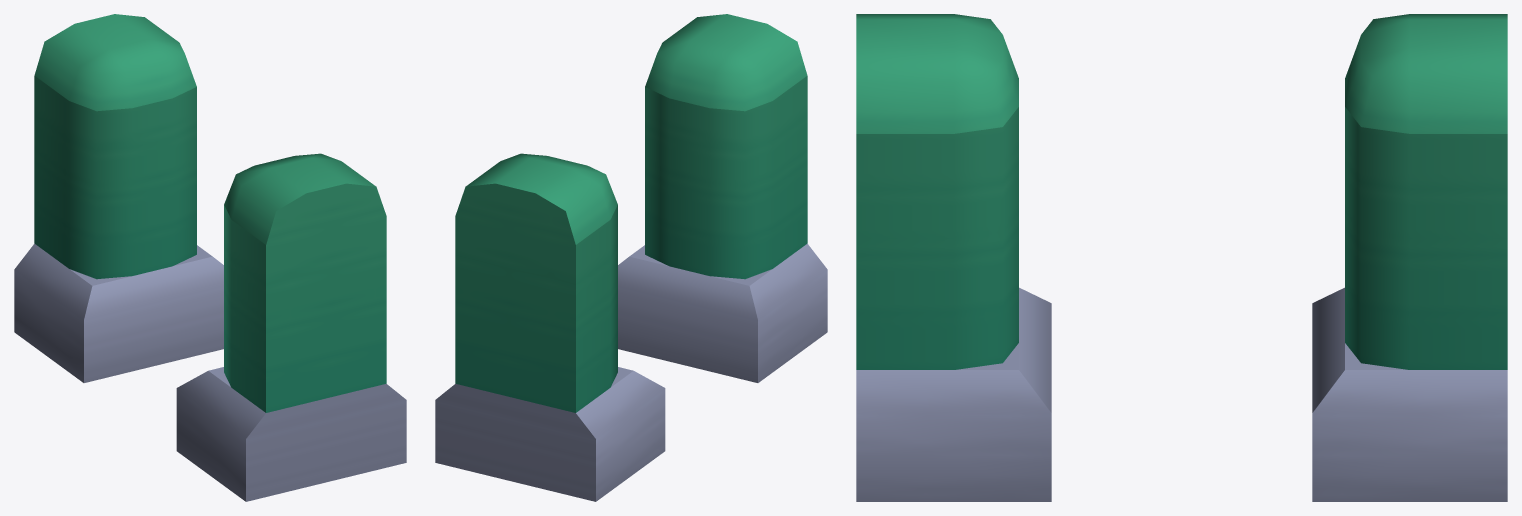
The model's file is hedgeLargeGate.fbx.
3 renders of one model, left to right at view 1: azimuth 30°, elevation 25°; view 2: azimuth 150°, elevation 25°; view 3: azimuth 270°, elevation 25°, orthographic. The views are drawn at different scales.
Visible parts, largest first — view 1: hedgeLargeGate; view 2: hedgeLargeGate; view 3: hedgeLargeGate.
Part boxes in pixels (bbox=[...]): hedgeLargeGate: bbox=[14, 14, 406, 501]; hedgeLargeGate: bbox=[435, 14, 827, 501]; hedgeLargeGate: bbox=[856, 14, 1507, 501].
Bounding box in the file's own units: 0.4 × 1 × 0.7.
